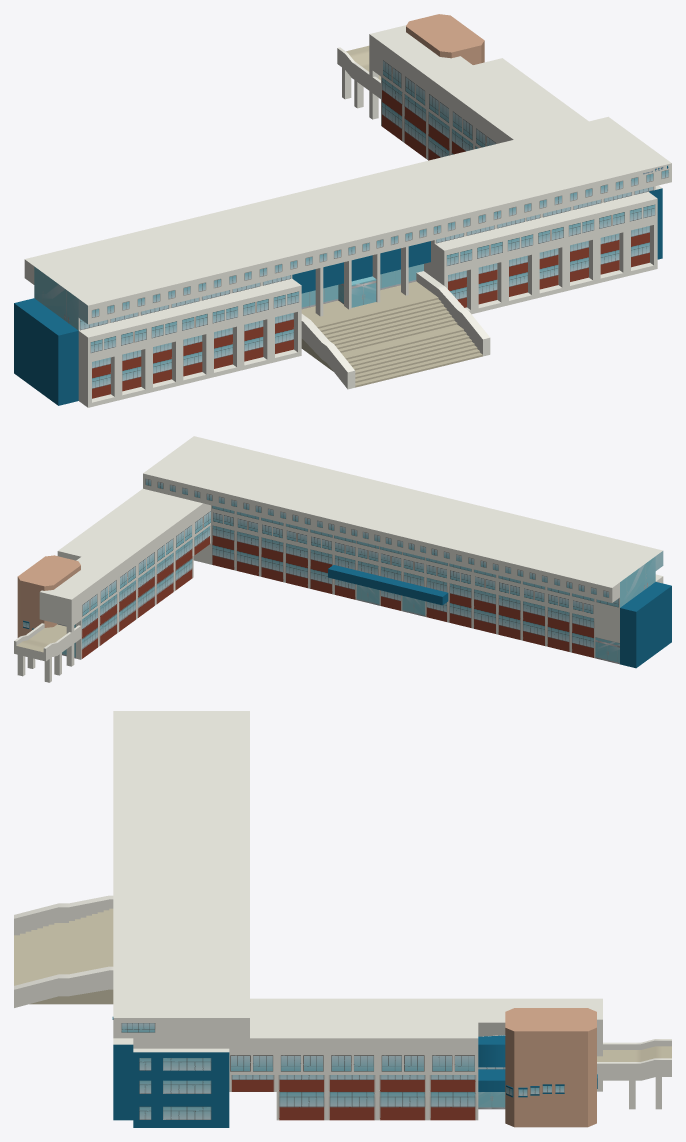
Rendered from building_woncheon.fbx.
3 views of the same model, one above another, from view 1: azimuth 30°, elevation 25°; view 2: azimuth 150°, elevation 25°; view 3: azimuth 270°, elevation 25° (orthographic). The views are drawn at different scales.
Visible parts, largest first — view 1: building_woncheon; view 2: building_woncheon; view 3: building_woncheon.
Part boxes in pixels (x1,y1,x2,y2): building_woncheon: [14, 14, 671, 407]; building_woncheon: [14, 436, 671, 682]; building_woncheon: [14, 711, 671, 1127].
Size of the model in its own units: 4.92 by 0.7957 by 4.31.
1 material, 1 textured.
